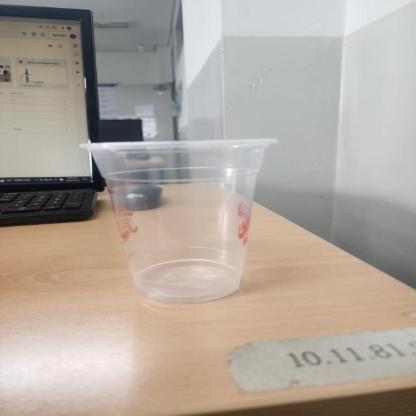Plastic Cup: (79, 140, 281, 302)
